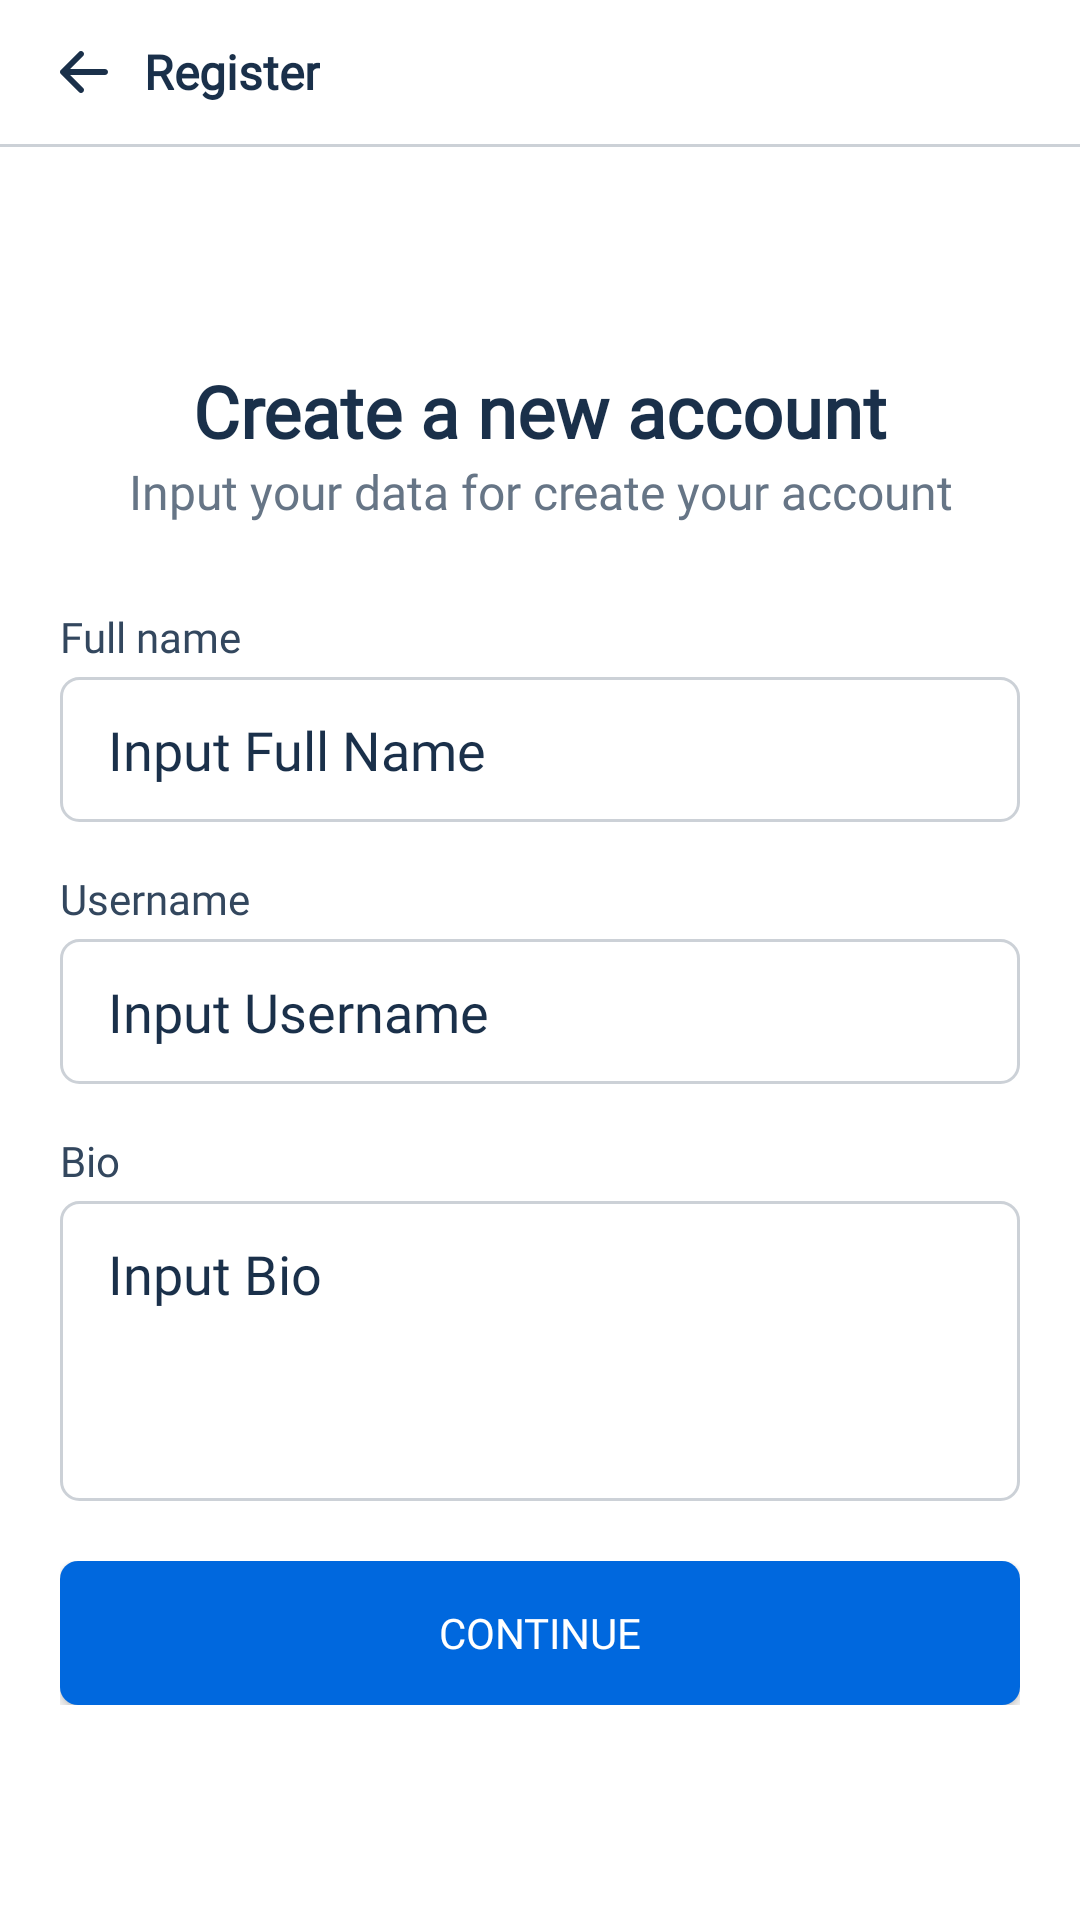

Icon bounding boxes for this 1080×1920 phone screenshot, format (x1, y1, x2, y2):
back: (60, 51, 108, 93)
